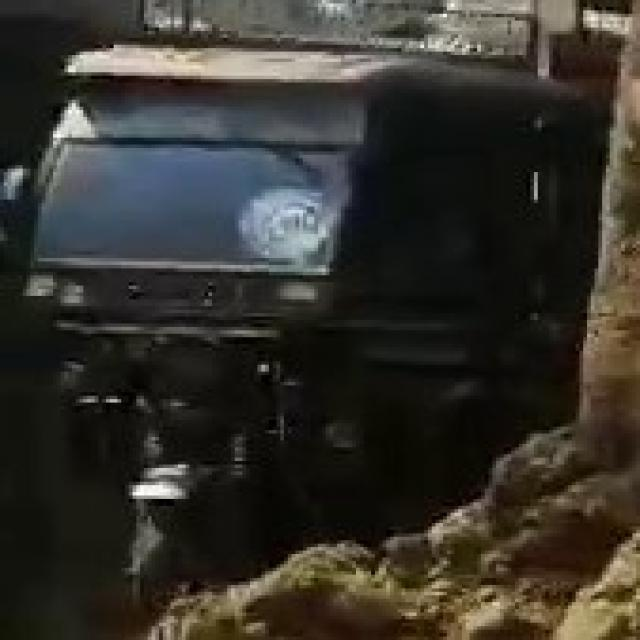toto: (34, 35, 610, 620)
